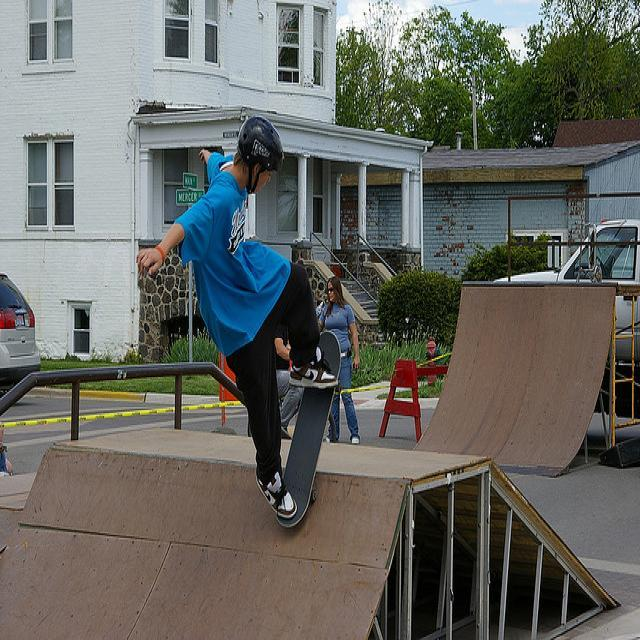fire_hydrant: (425, 334, 437, 384)
